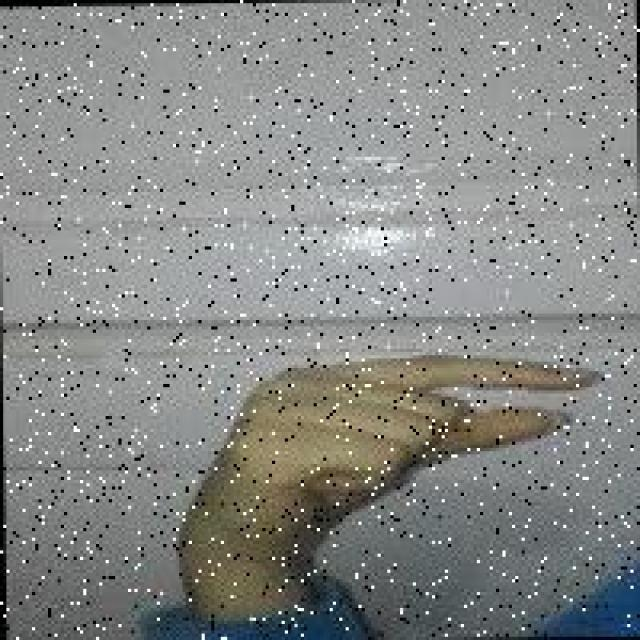G: (178, 347, 600, 549)
